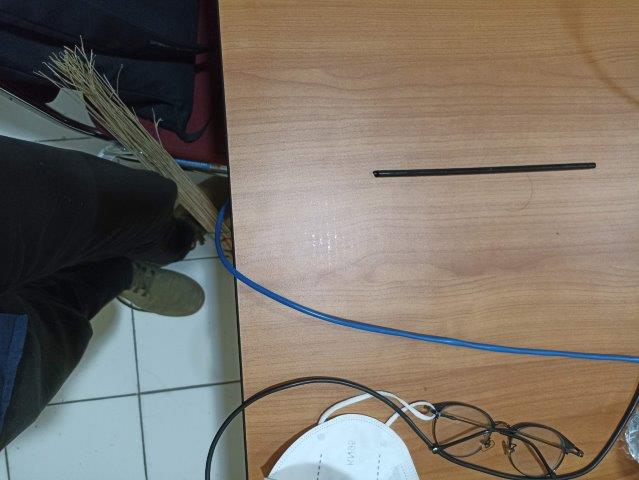sedotan: (373, 163, 596, 177)
